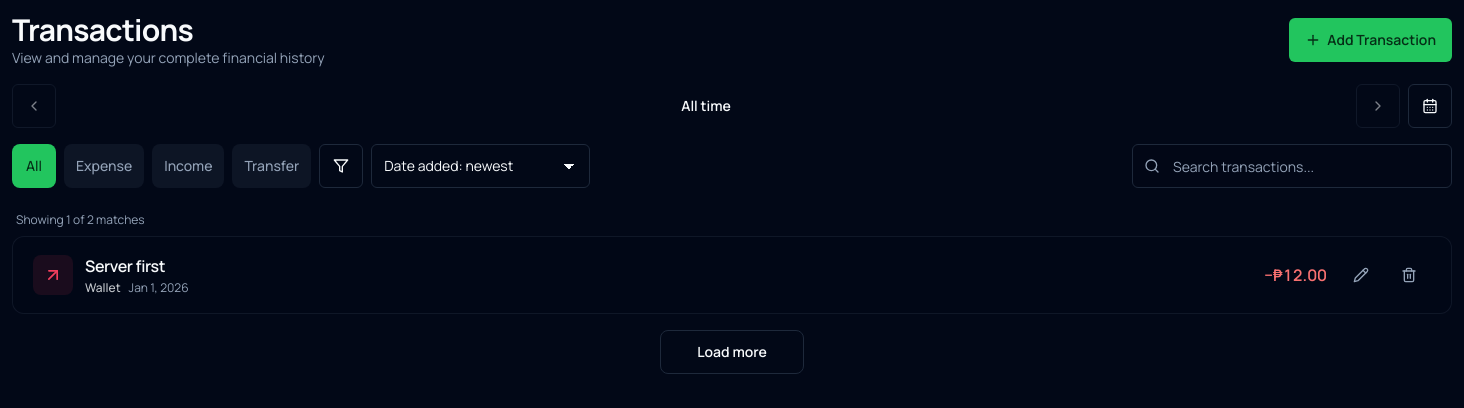
keeps authoritative transaction_date_desc order across load-more
Check: the text "Server first" is shown, box [85,255,165,277]
Select "Transaction date: newest" in the dropdown named "Sort transactions" at (481, 166), box [371,144,590,188]
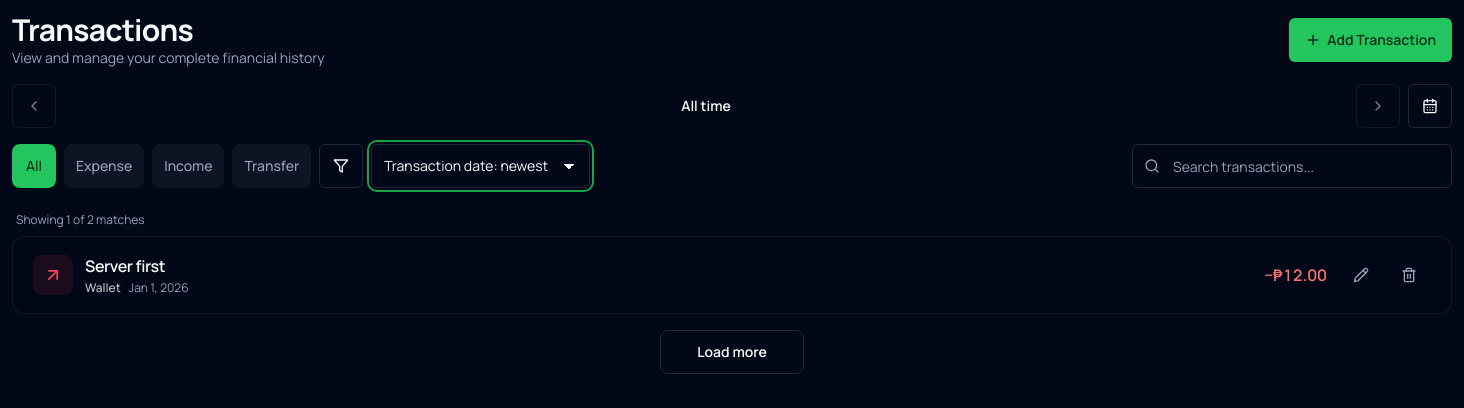
Check: the text "Server first" is shown, box [85,255,165,277]
Click the button "Load more" at (732, 352), box [660,330,804,374]
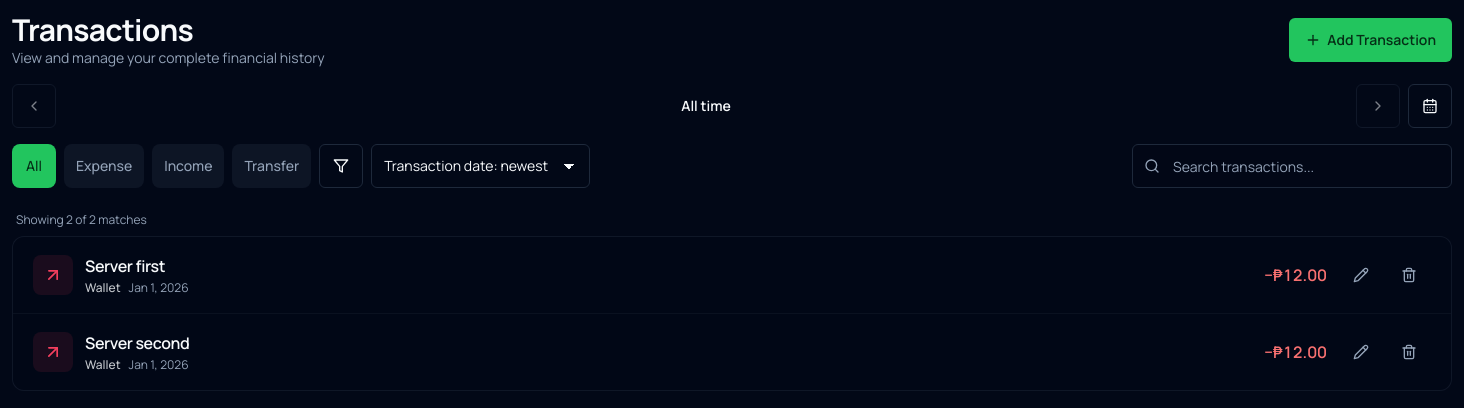
Check: the text "Server second" is shown, box [85,332,189,354]
Check: the text "Showing 2 of 2 matches" is shown, box [16,212,147,228]
